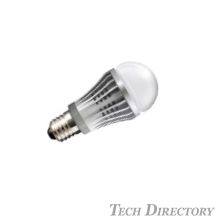Light_bulb: (40, 58, 164, 146)
